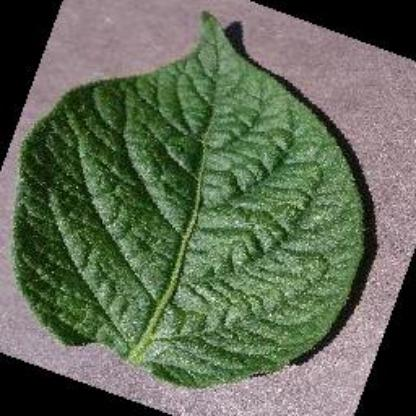Healthy-plant: (13, 10, 369, 388)
